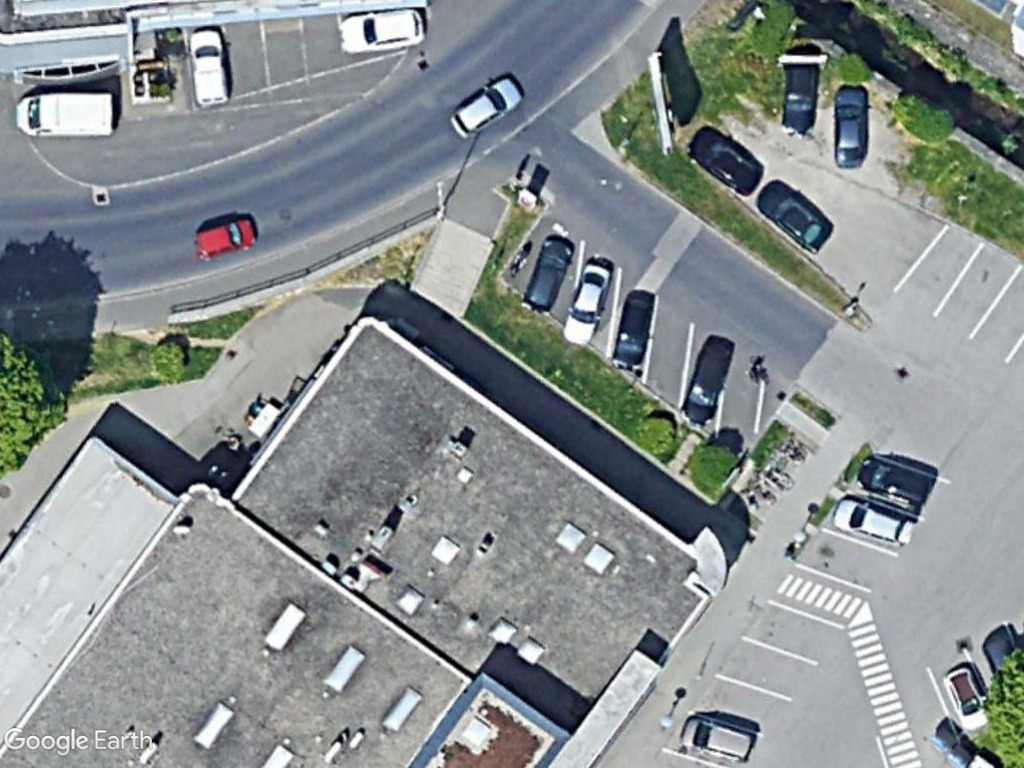car: (750, 177, 832, 252), (688, 120, 766, 198), (677, 335, 734, 432), (448, 72, 526, 141), (852, 452, 941, 511), (559, 258, 613, 347), (831, 495, 915, 550), (520, 235, 575, 314), (336, 8, 426, 56), (677, 713, 760, 765), (937, 661, 990, 736), (611, 287, 656, 372), (187, 27, 234, 108), (832, 81, 871, 171), (190, 216, 258, 264)
van: (14, 87, 119, 137)
